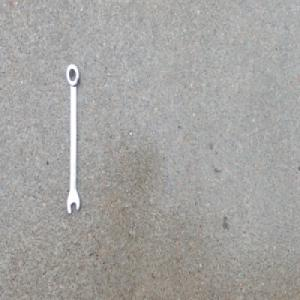Wrench: (66, 63, 82, 216)
